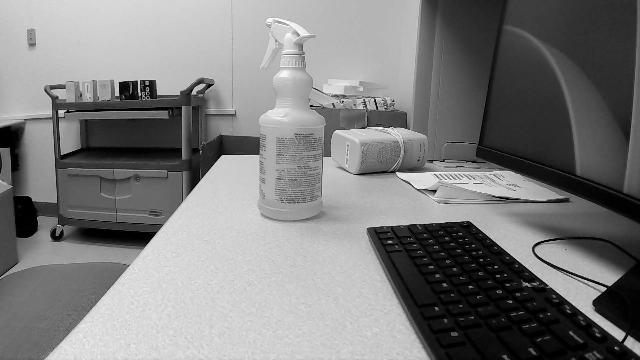StarSpray: (257, 18, 326, 222)
